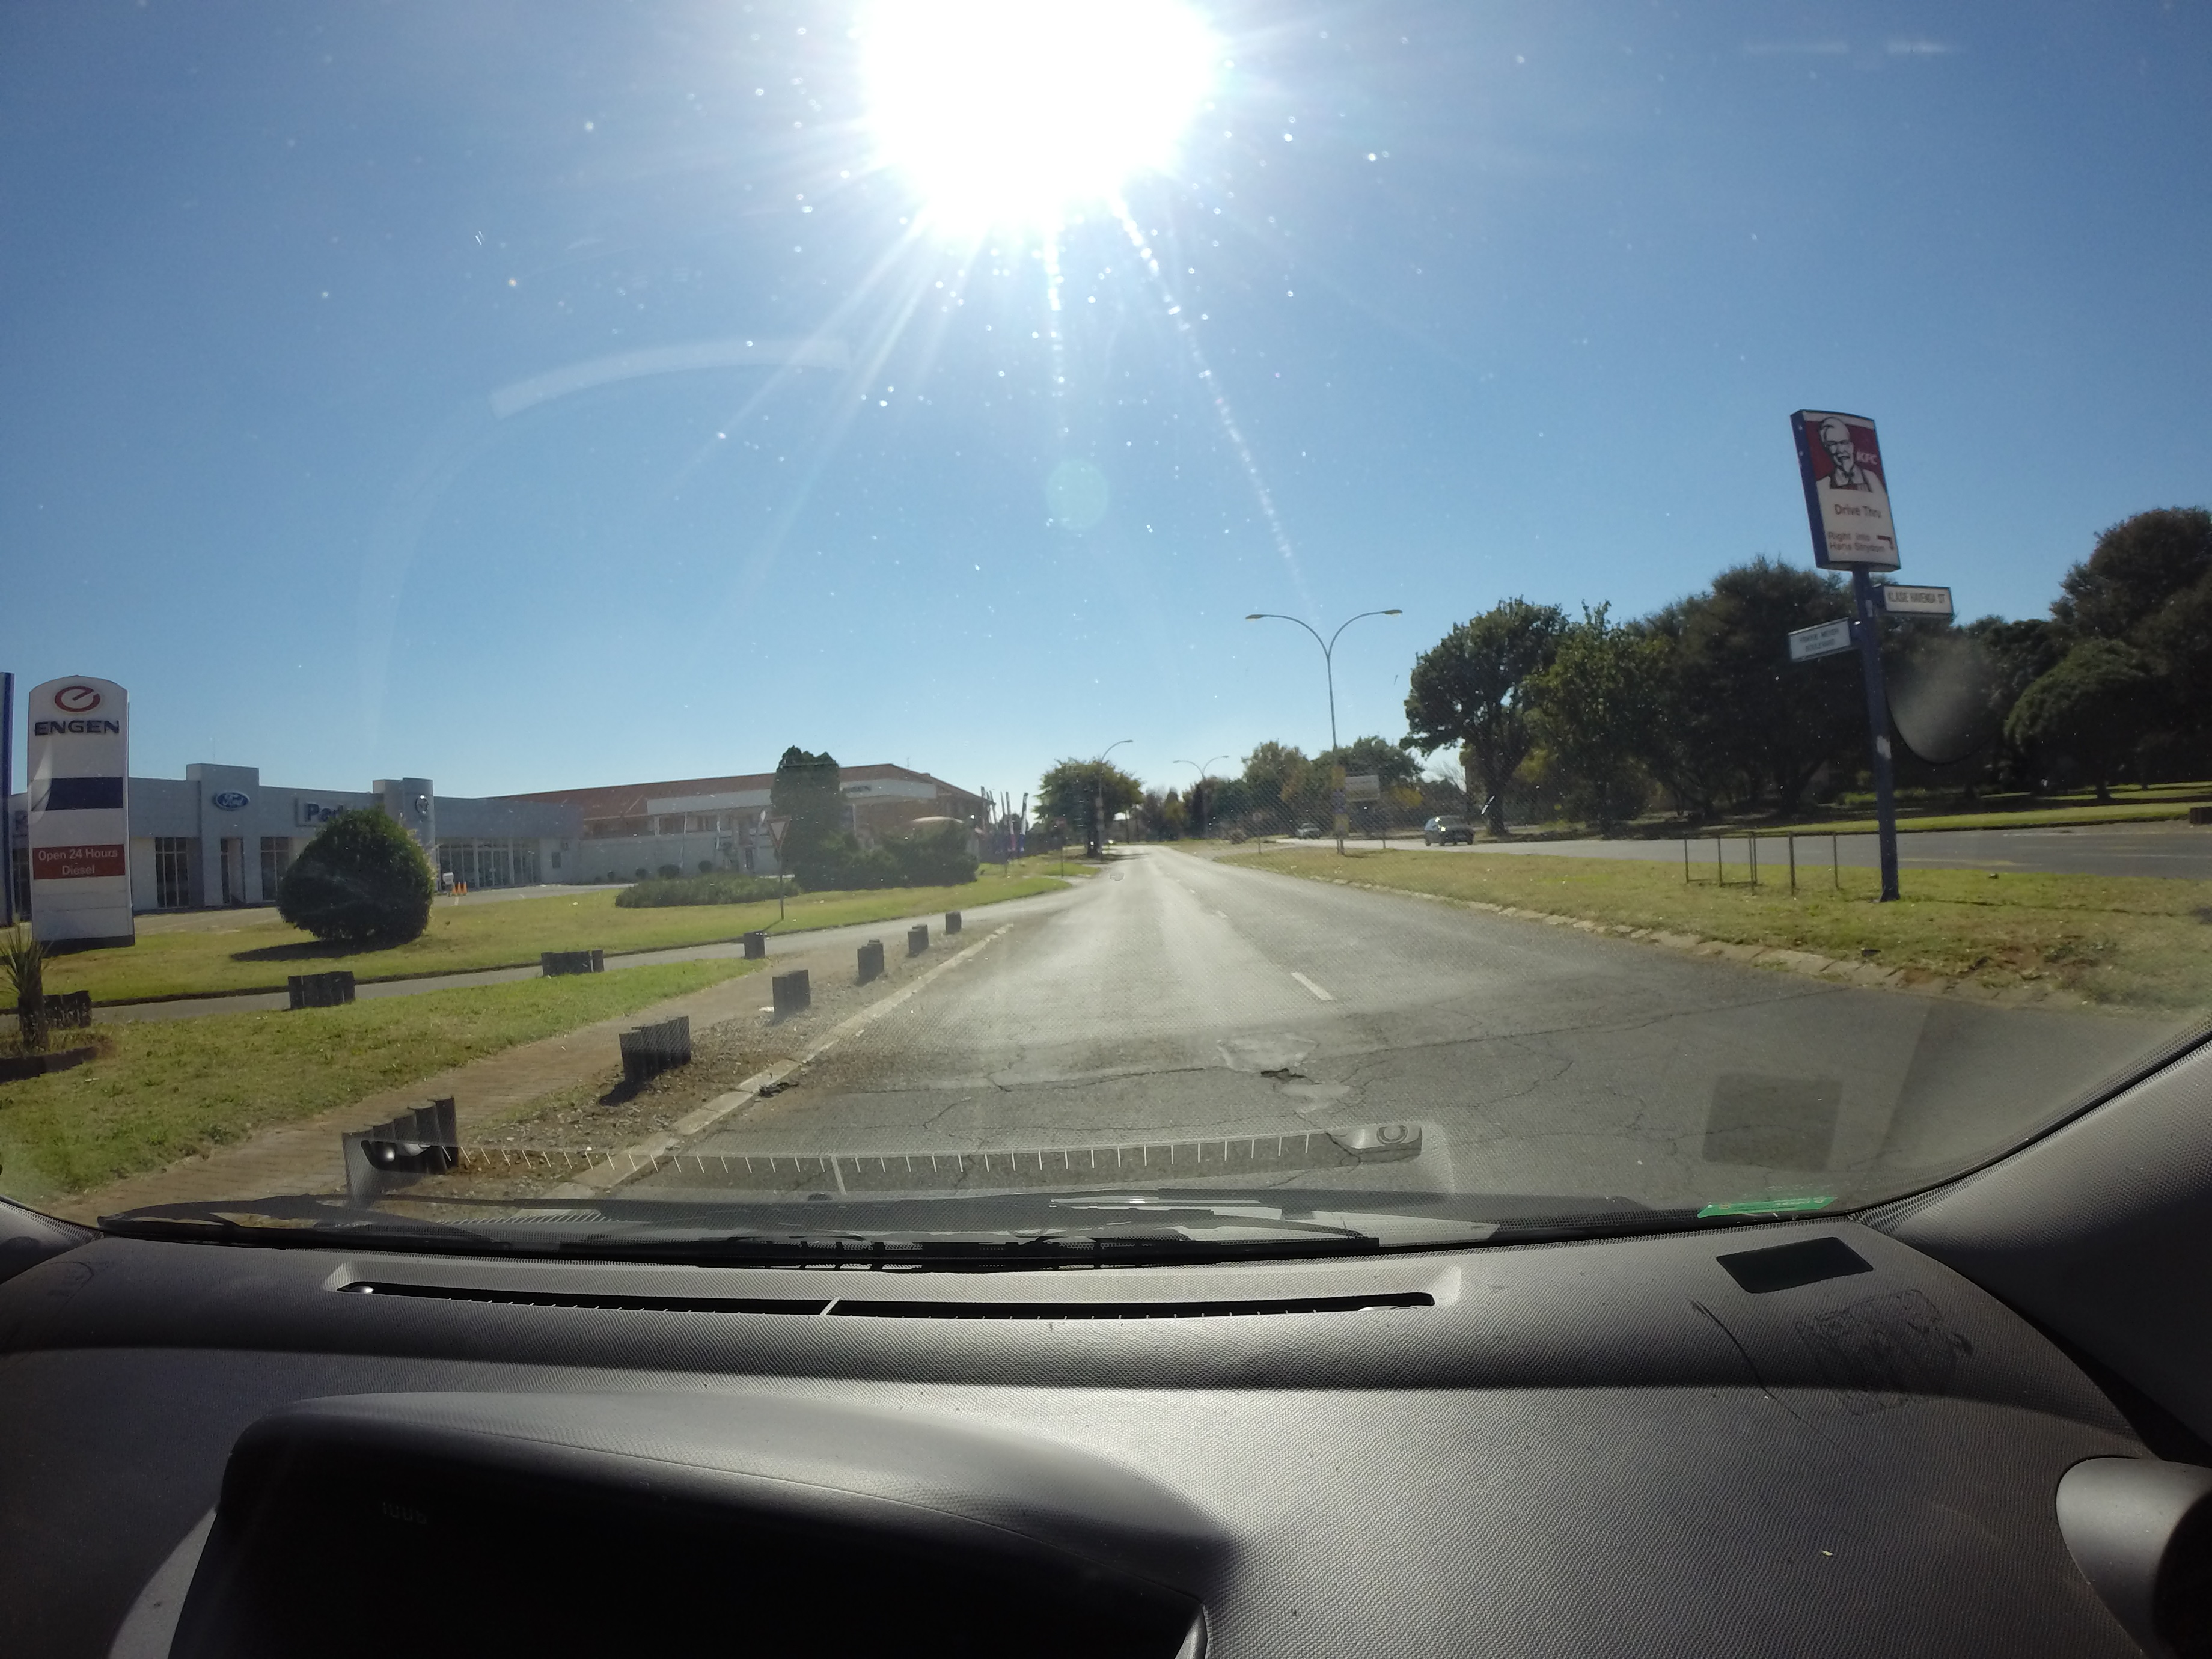pothole: (1202, 1026, 1433, 1147)
